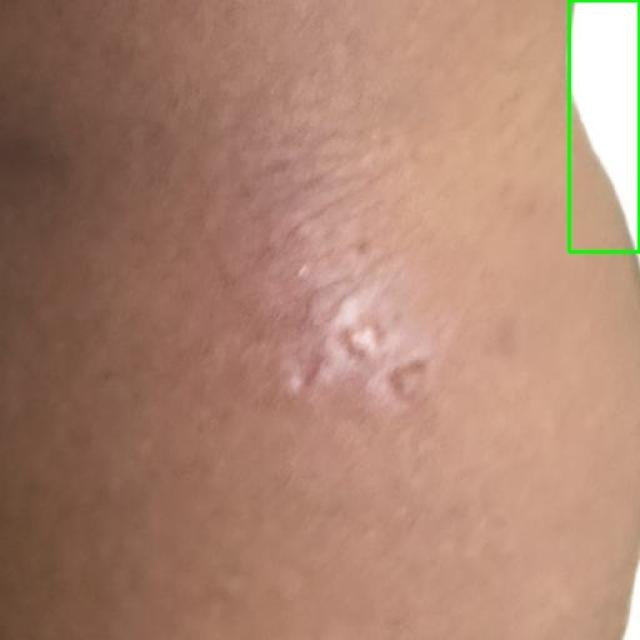Scabies: (569, 0, 639, 251)
